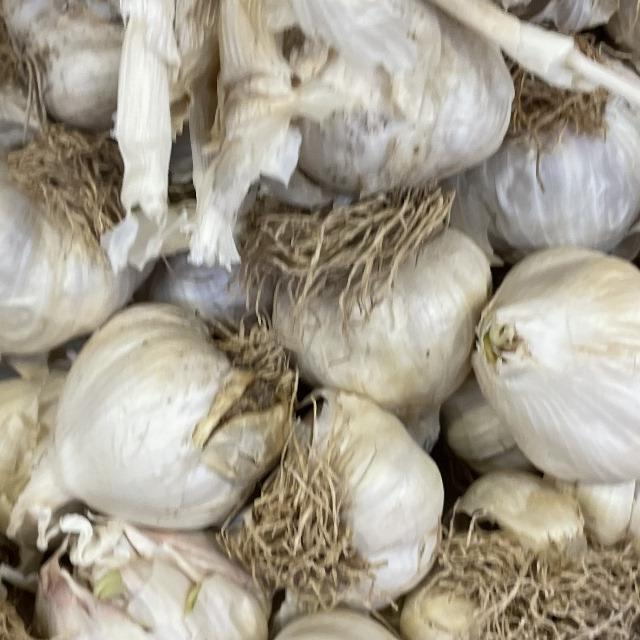garlic: (455, 227, 640, 497)
